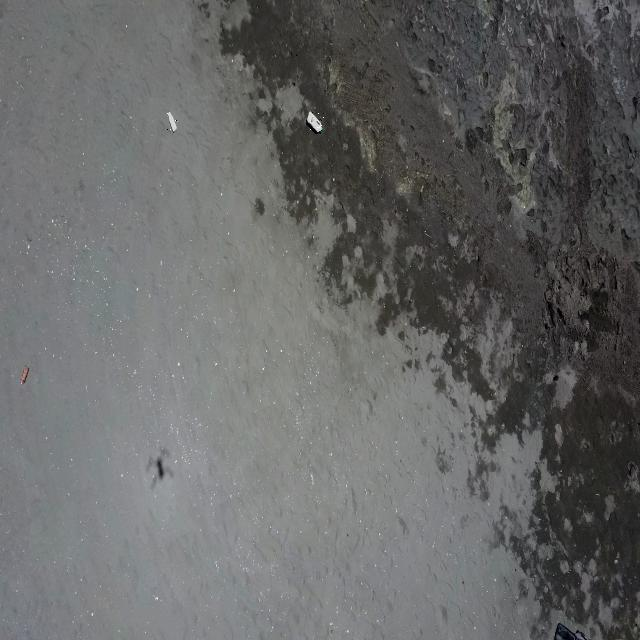plastic-bottle: (306, 110, 325, 134), (167, 113, 177, 133)
